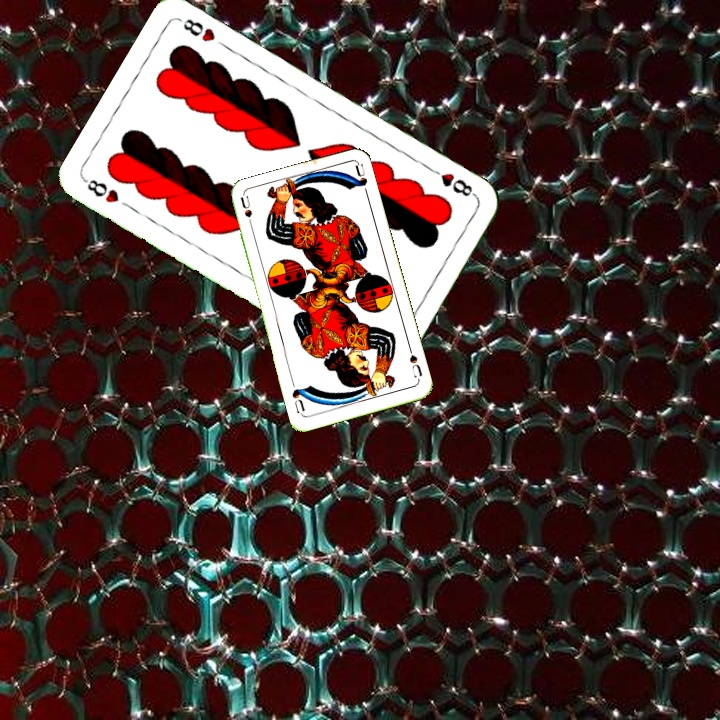H8: (425, 163, 479, 199), (80, 175, 122, 206)
SU: (236, 193, 257, 234), (405, 343, 425, 383)
